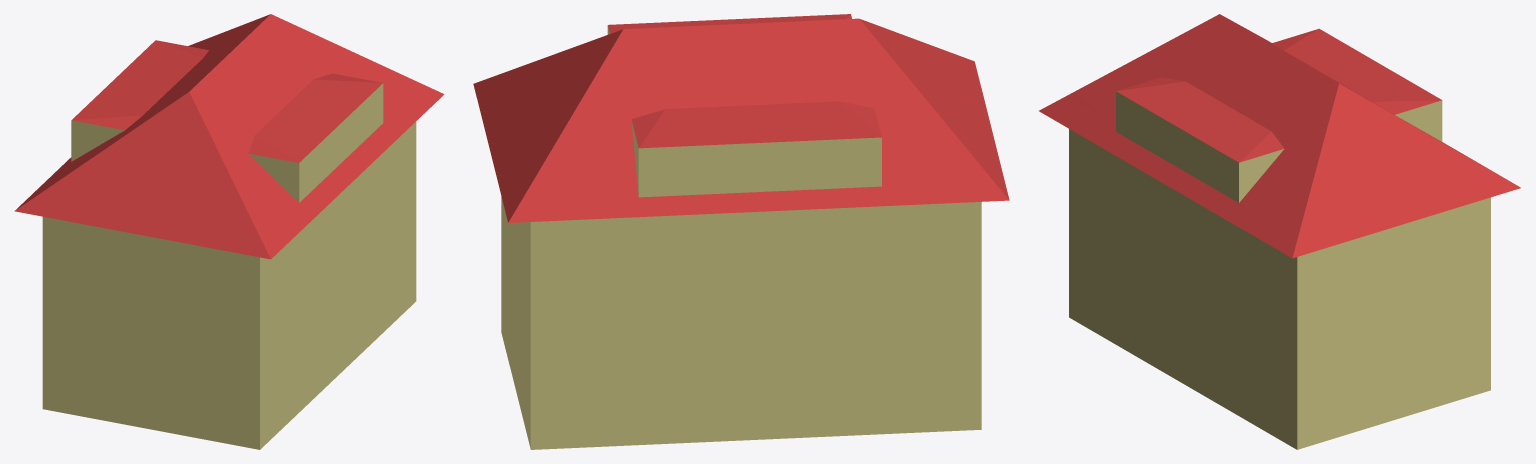
3 views of the same model, side by side, from view 1: azimuth 30°, elevation 25°; view 2: azimuth 150°, elevation 25°; view 3: azimuth 270°, elevation 25° (orthographic). The views are drawn at different scales.
Parts seen in each view (by area): view 1: group_7, group_3, group_4, group_5, group_6; view 2: group_7, group_3, group_6, group_5, group_4; view 3: group_7, group_3, group_4, group_5, group_6.
Part boxes in pixels (x1,y1,x2,y2): group_7: (42, 121, 416, 449); group_3: (14, 14, 444, 259); group_4: (72, 40, 382, 162); group_5: (71, 83, 383, 202); group_6: (15, 43, 442, 258); group_7: (501, 196, 981, 449); group_3: (473, 18, 1009, 222); group_6: (474, 56, 1009, 222); group_5: (607, 25, 881, 197); group_4: (608, 14, 881, 148); group_7: (1069, 129, 1490, 449); group_3: (1039, 14, 1520, 257); group_4: (1116, 28, 1441, 162); group_5: (1116, 91, 1442, 202); group_6: (1043, 41, 1519, 258).
Bounding box in the file's own units: 23.67 × 22.17 × 15.46.
